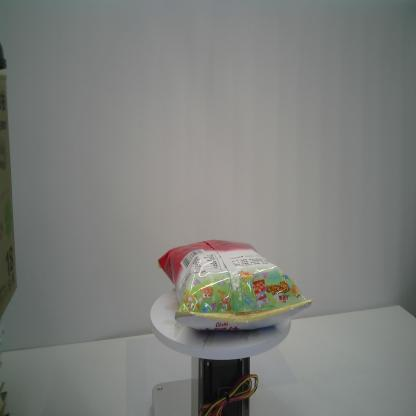Puffed Food: (154, 237, 314, 334)
